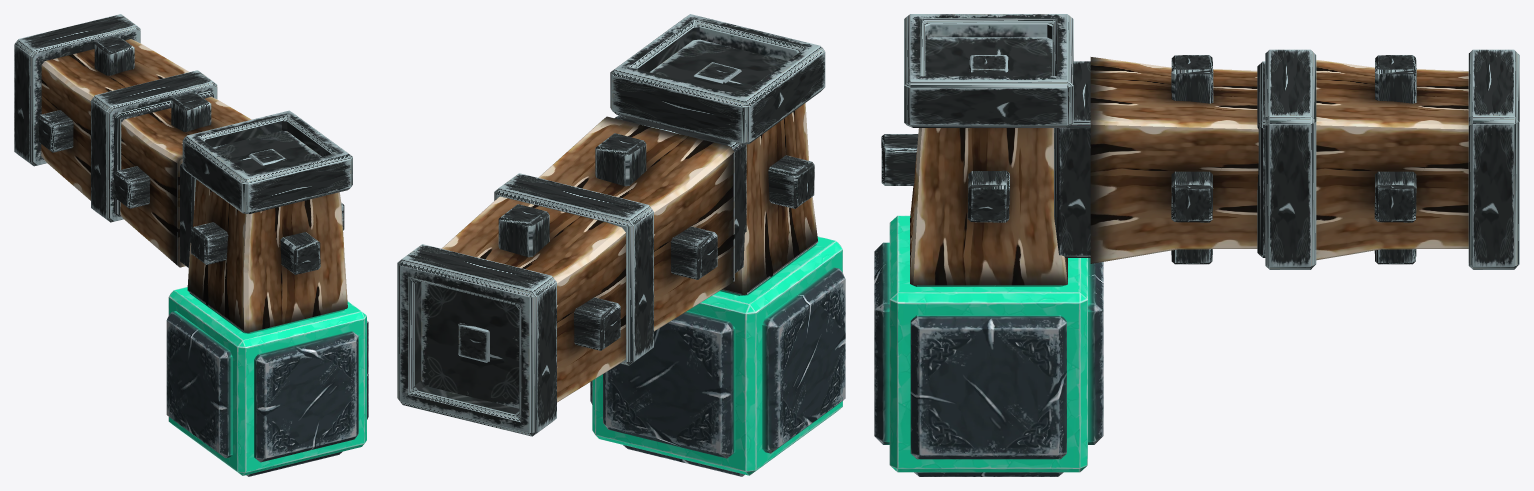
The model's file is step_004.glb.
The picture shows the model from 3 angles, left to right: view 1: azimuth 30°, elevation 25°; view 2: azimuth 150°, elevation 25°; view 3: azimuth 270°, elevation 25°; orthographic projection. The views are drawn at different scales.
Parts seen in each view (by area): view 1: SingleWoodenBlock_0db858c1-8b0e-48a5-84d7-229a0ca94326, StartingBlock_1d4f4f90-4d7f-4452-8d42-4e84f6ff2e8f; view 2: SingleWoodenBlock_0db858c1-8b0e-48a5-84d7-229a0ca94326, StartingBlock_1d4f4f90-4d7f-4452-8d42-4e84f6ff2e8f; view 3: SingleWoodenBlock_0db858c1-8b0e-48a5-84d7-229a0ca94326, StartingBlock_1d4f4f90-4d7f-4452-8d42-4e84f6ff2e8f.
Boxes of the visible parts, left/top/right/bottom form: SingleWoodenBlock_0db858c1-8b0e-48a5-84d7-229a0ca94326: left=14, top=14, right=352, bottom=332; StartingBlock_1d4f4f90-4d7f-4452-8d42-4e84f6ff2e8f: left=166, top=287, right=368, bottom=476; SingleWoodenBlock_0db858c1-8b0e-48a5-84d7-229a0ca94326: left=397, top=14, right=825, bottom=436; StartingBlock_1d4f4f90-4d7f-4452-8d42-4e84f6ff2e8f: left=590, top=236, right=845, bottom=476; SingleWoodenBlock_0db858c1-8b0e-48a5-84d7-229a0ca94326: left=881, top=14, right=1519, bottom=285; StartingBlock_1d4f4f90-4d7f-4452-8d42-4e84f6ff2e8f: left=874, top=215, right=1103, bottom=476.
Size of the model in its own units: 1.13 by 2.17 by 3.17.
Materials: 2 (2 with a texture image).
